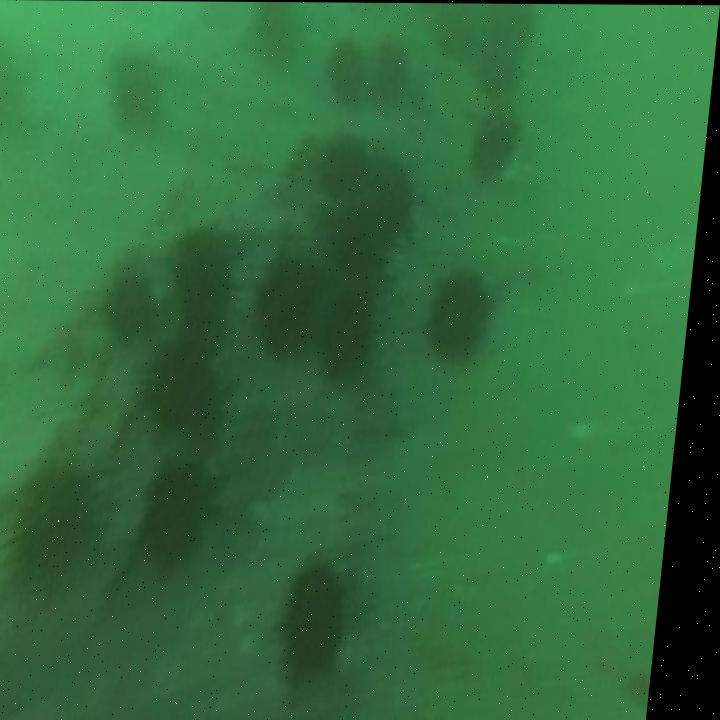echinus: (18, 480, 102, 595), (171, 234, 241, 343), (295, 566, 364, 666), (155, 469, 224, 562), (157, 344, 225, 431), (260, 256, 319, 354), (434, 269, 498, 357), (325, 196, 397, 271), (328, 292, 377, 386), (114, 59, 166, 127), (110, 276, 162, 343), (367, 36, 411, 107), (378, 157, 419, 230), (325, 35, 369, 102), (252, 3, 304, 59), (475, 113, 520, 177), (472, 42, 519, 96), (326, 139, 367, 192)
starfish: (360, 383, 415, 443)
